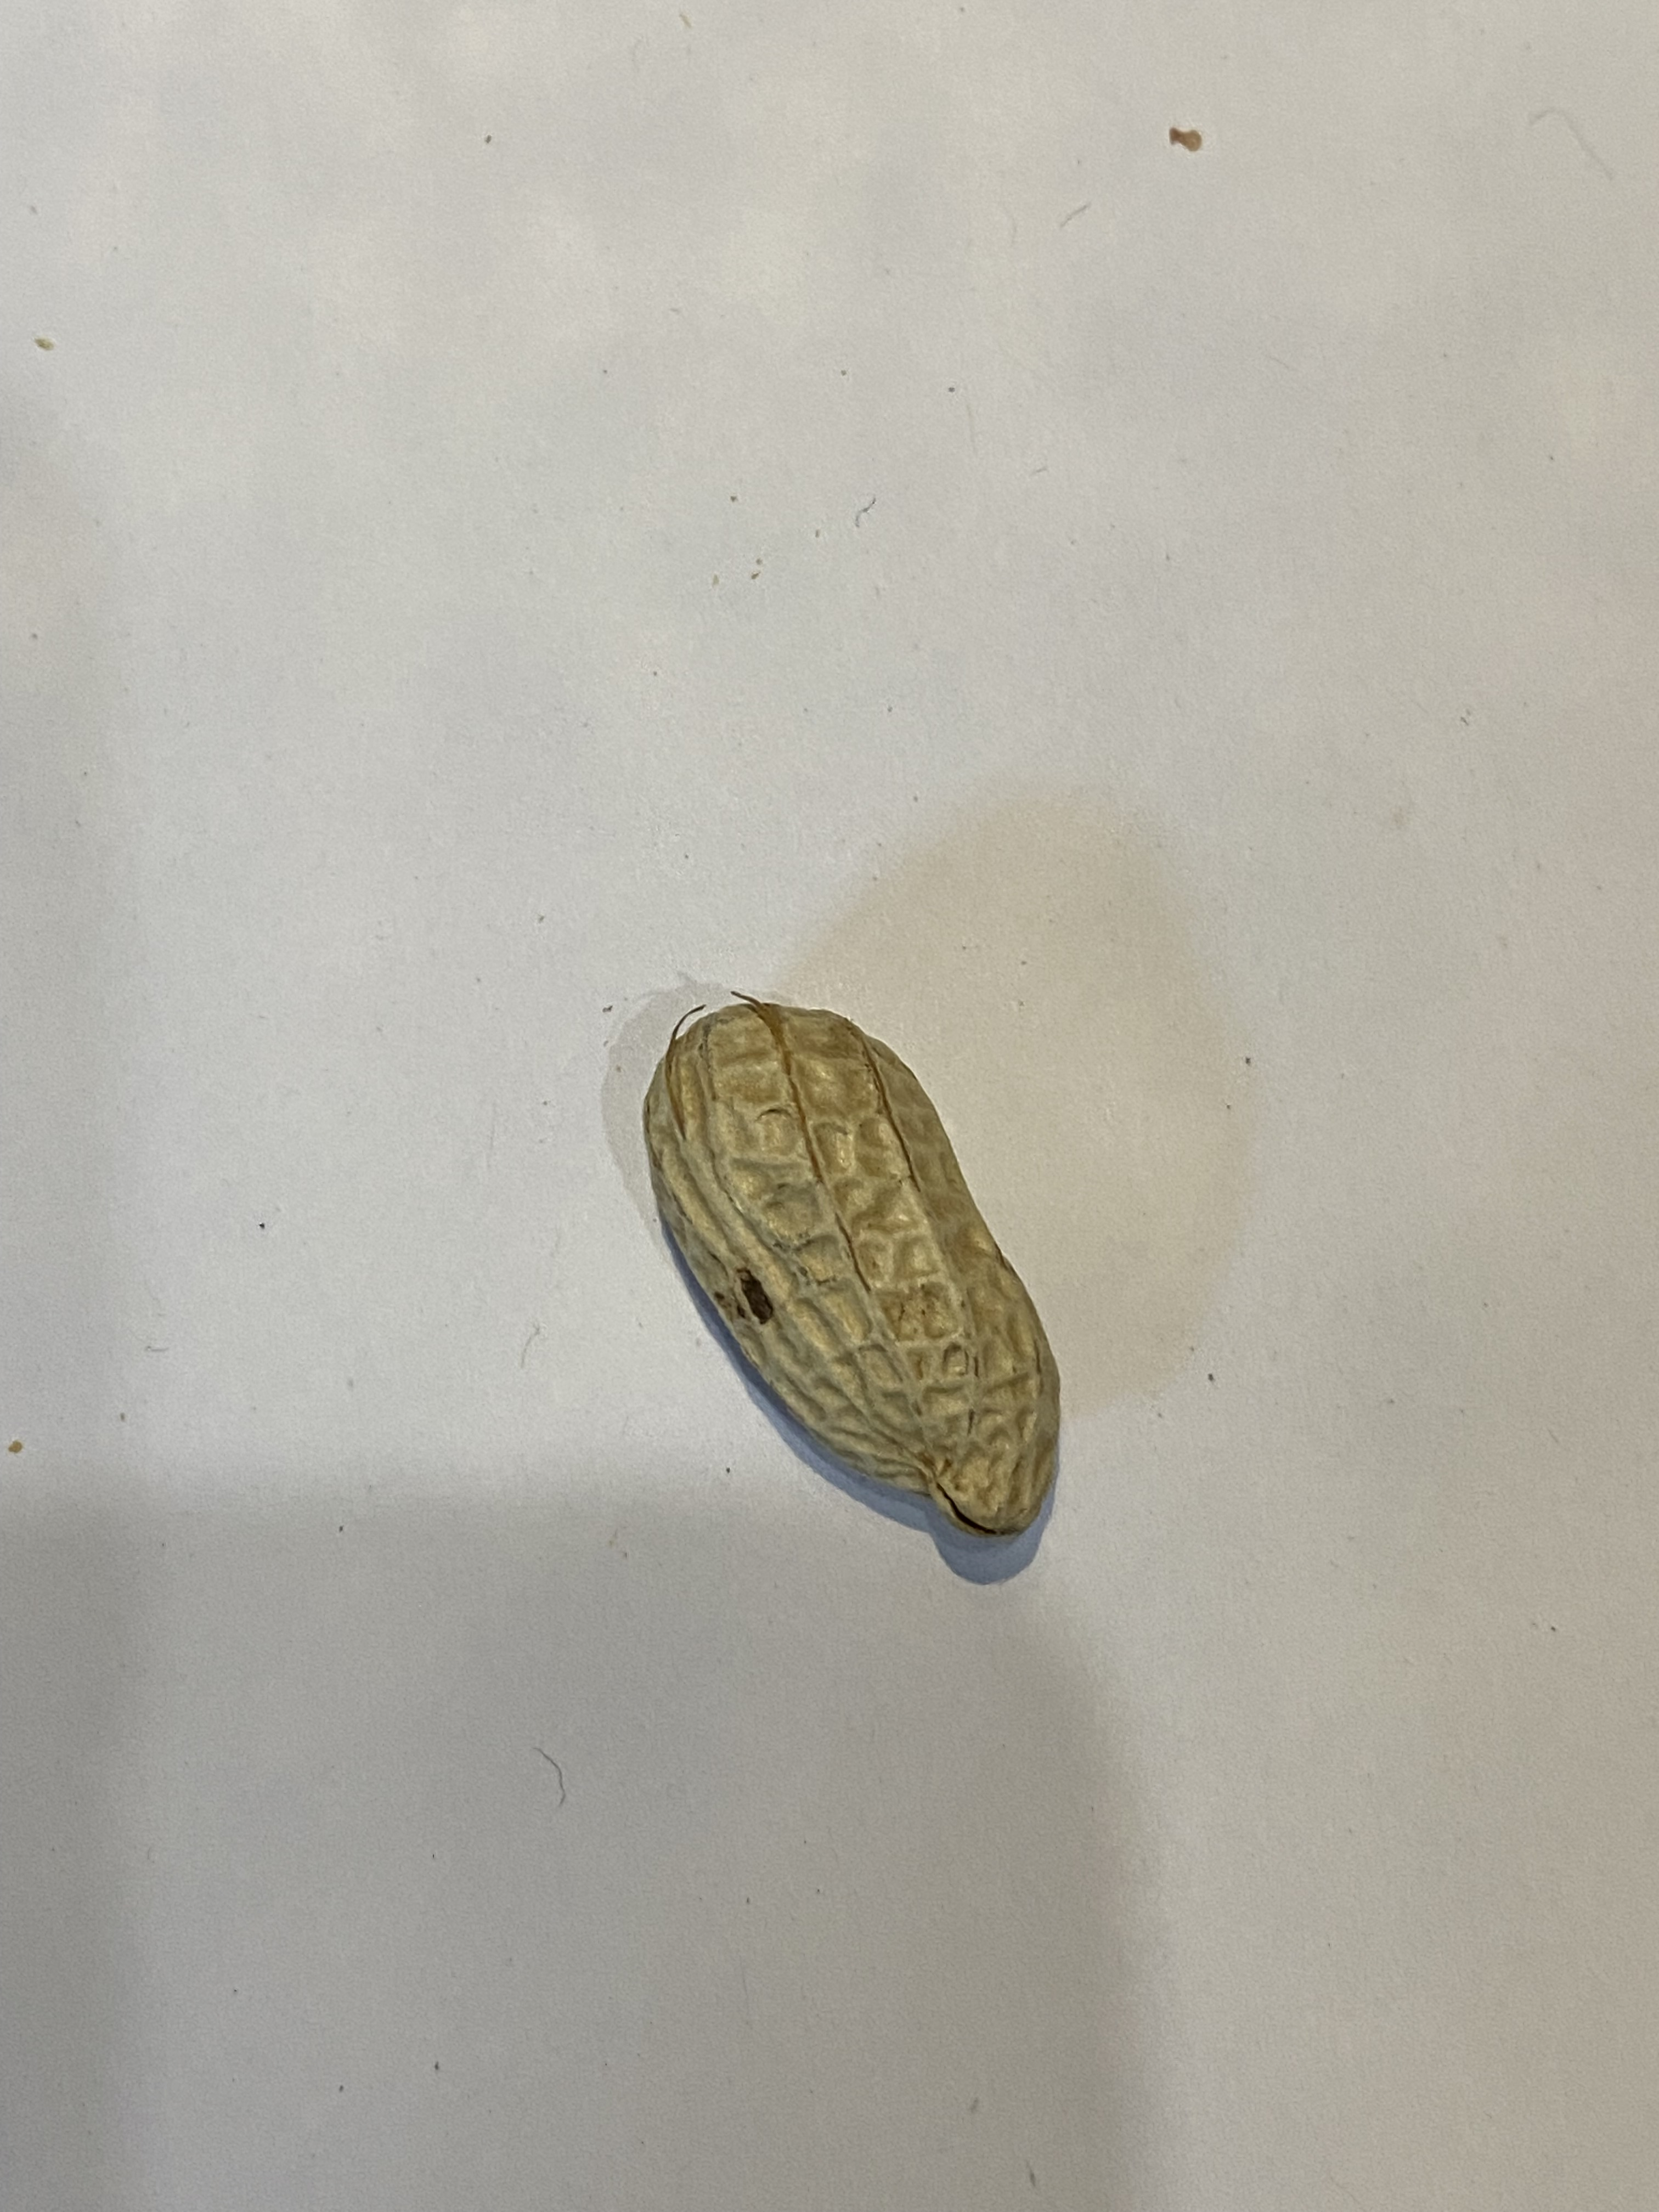kacang2: (605, 968, 1136, 1573)
